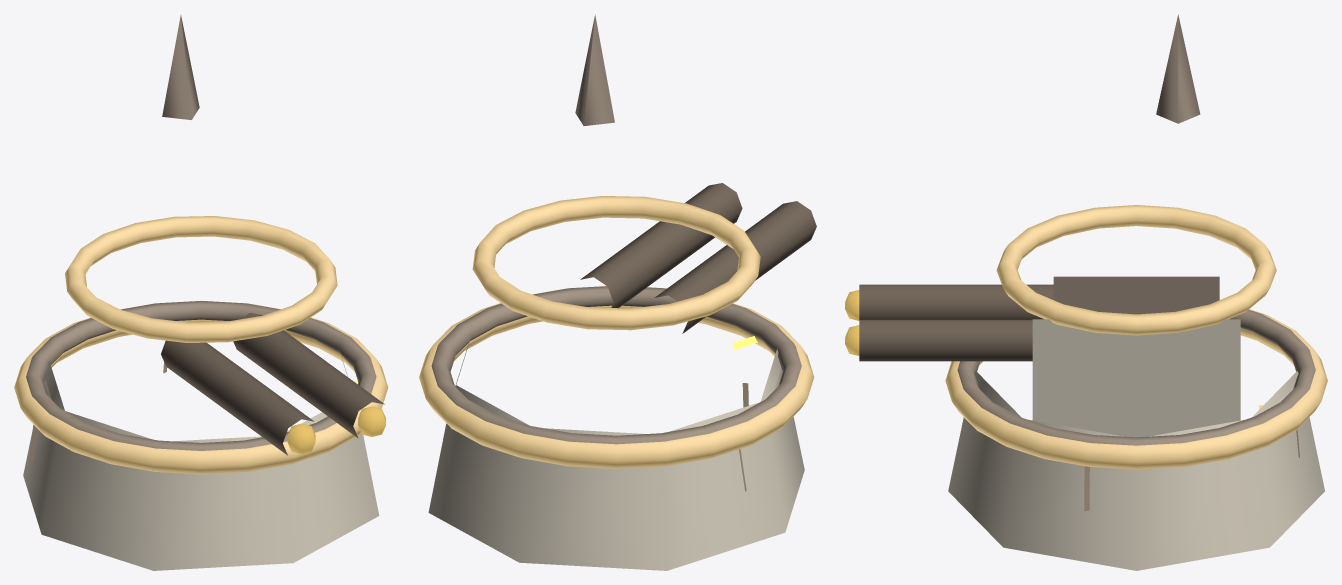
File: tower_gun_3.glb
3 renders of one model, left to right at view 1: azimuth 30°, elevation 25°; view 2: azimuth 150°, elevation 25°; view 3: azimuth 270°, elevation 25°, orthographic. The views are drawn at different scales.
Parts seen in each view (by area): view 1: base, turret; view 2: base, turret; view 3: base, turret.
Boxes of the visible parts, left/top/right/bottom form: base: left=14, top=14, right=388, bottom=570; turret: left=161, top=313, right=385, bottom=455; base: left=419, top=14, right=814, bottom=570; turret: left=580, top=183, right=816, bottom=333; base: left=945, top=14, right=1327, bottom=570; turret: left=845, top=276, right=1240, bottom=437.
Bounding box in the file's own units: 2.76 × 3.8 × 3.48.
